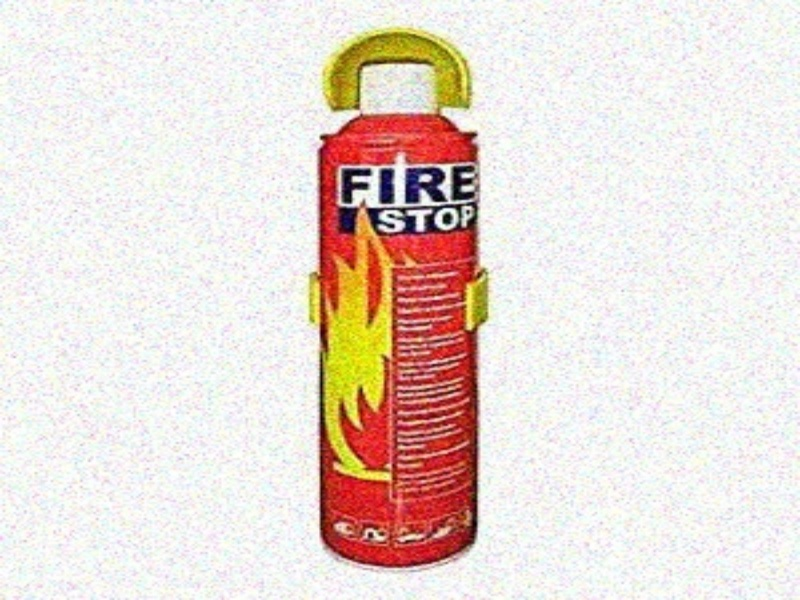fire_extinguisher: (294, 19, 496, 579)
